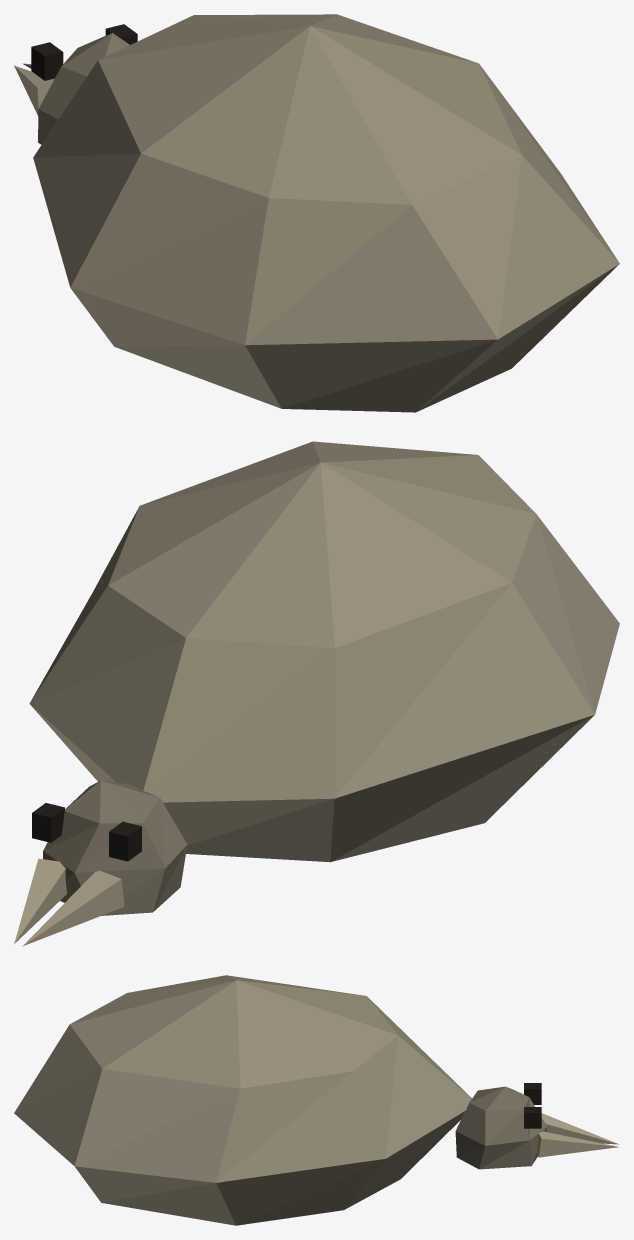
The model's file is animal_megascarab_bones.obj.
3 views of the same model, one above another, from view 1: azimuth 30°, elevation 25°; view 2: azimuth 150°, elevation 25°; view 3: azimuth 270°, elevation 25° (orthographic). The views are drawn at different scales.
Bounding box in the file's own units: 0.3314 × 0.2117 × 0.5432.
